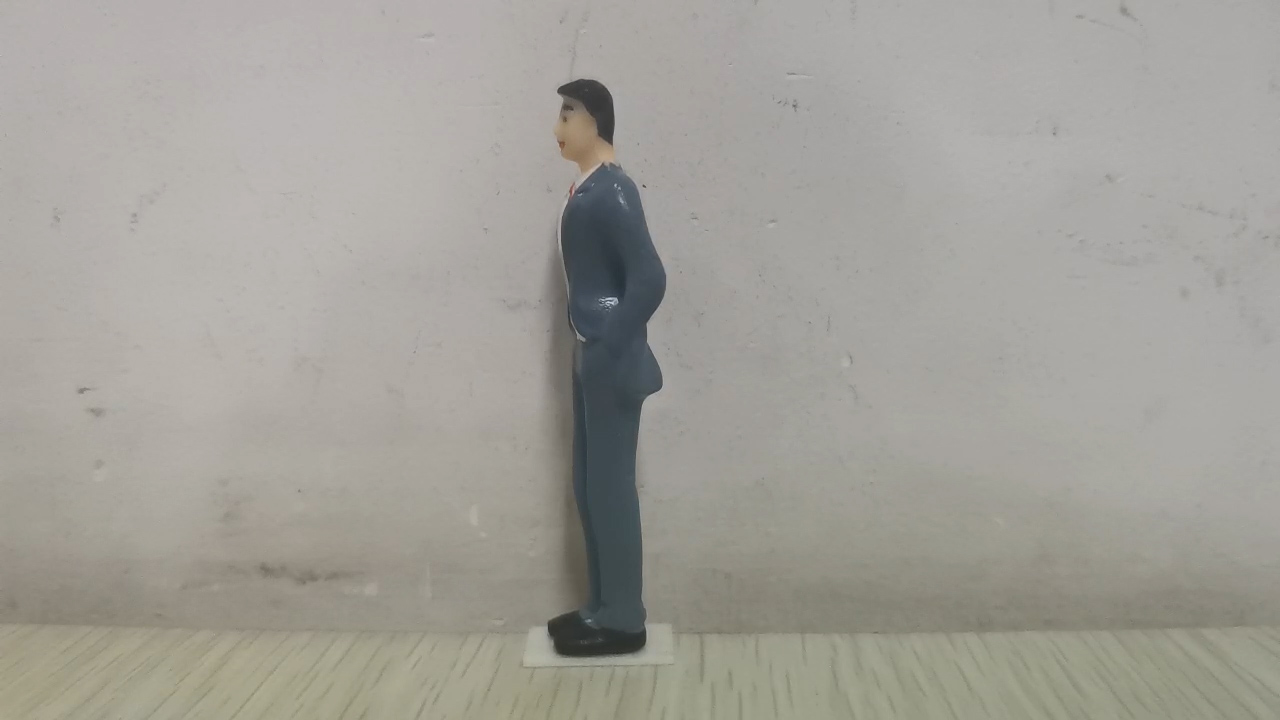person: (543, 77, 670, 660)
